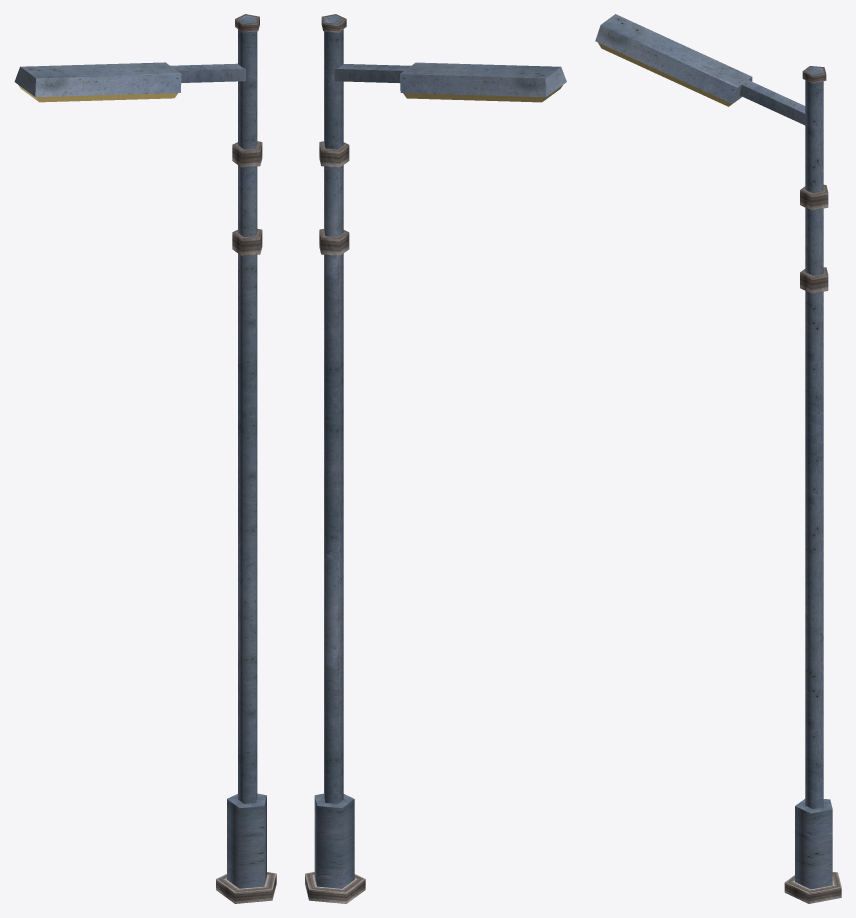
File: road light.FBX
3 renders of one model, left to right at view 1: azimuth 30°, elevation 25°; view 2: azimuth 150°, elevation 25°; view 3: azimuth 330°, elevation 25°, orthographic. The views are drawn at different scales.
Visible parts, largest first — view 1: road light; view 2: road light; view 3: road light.
Part boxes in pixels (x1=…): road light: x1=14, y1=14, x2=276, y2=903; road light: x1=305, y1=14, x2=566, y2=903; road light: x1=595, y1=14, x2=841, y2=903.
Bounding box in the file's own units: 19.36 × 64.16 × 4.13.
